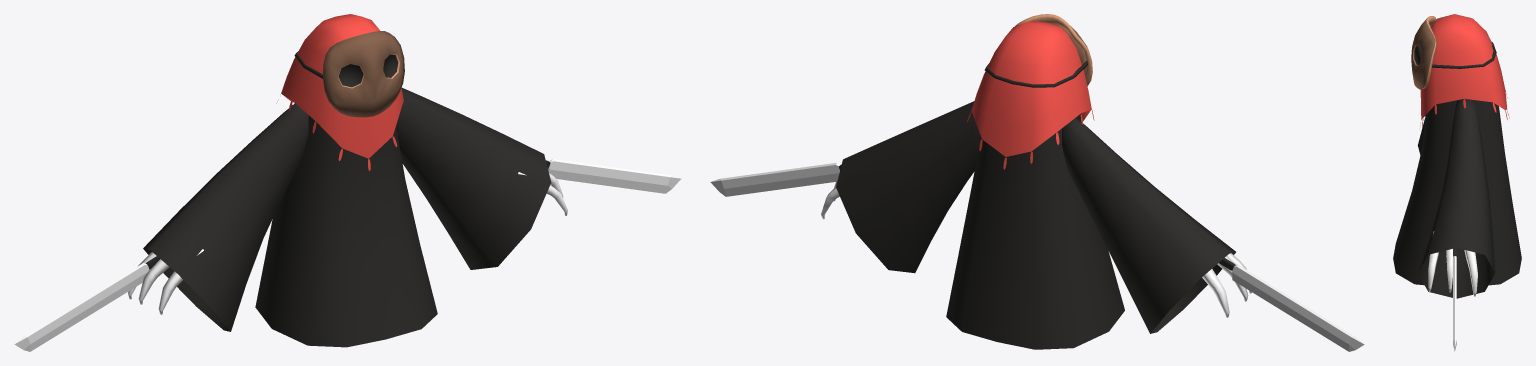
Rendered from coconapper.fbx.
3 renders of one model, left to right at view 1: azimuth 30°, elevation 25°; view 2: azimuth 150°, elevation 25°; view 3: azimuth 270°, elevation 25°, orthographic. The views are drawn at different scales.
Visible parts, largest first — view 1: robe, hood, mask, sword2, sword, claws; view 2: robe, hood, sword2, sword, mask, claws; view 3: robe, hood, mask, claws, sword.
Boxes of the visible parts, x1=… form: robe: x1=143, y1=87, x2=551, y2=347; hood: x1=276, y1=14, x2=403, y2=171; mask: x1=294, y1=31, x2=404, y2=117; sword2: x1=14, y1=256, x2=159, y2=351; sword: x1=546, y1=159, x2=681, y2=193; claws: x1=128, y1=172, x2=567, y2=314; robe: x1=836, y1=101, x2=1235, y2=349; hood: x1=966, y1=21, x2=1094, y2=169; sword2: x1=1219, y1=258, x2=1364, y2=351; sword: x1=710, y1=162, x2=841, y2=196; mask: x1=984, y1=14, x2=1092, y2=87; claws: x1=821, y1=181, x2=1251, y2=317; robe: x1=1393, y1=98, x2=1521, y2=298; hood: x1=1420, y1=14, x2=1509, y2=127; mask: x1=1411, y1=16, x2=1496, y2=89; claws: x1=1428, y1=231, x2=1477, y2=296; sword: x1=1453, y1=248, x2=1456, y2=351.
Bounding box in the file's own units: 5.73 × 2.41 × 1.17.
Materials: 1 (1 with a texture image).
